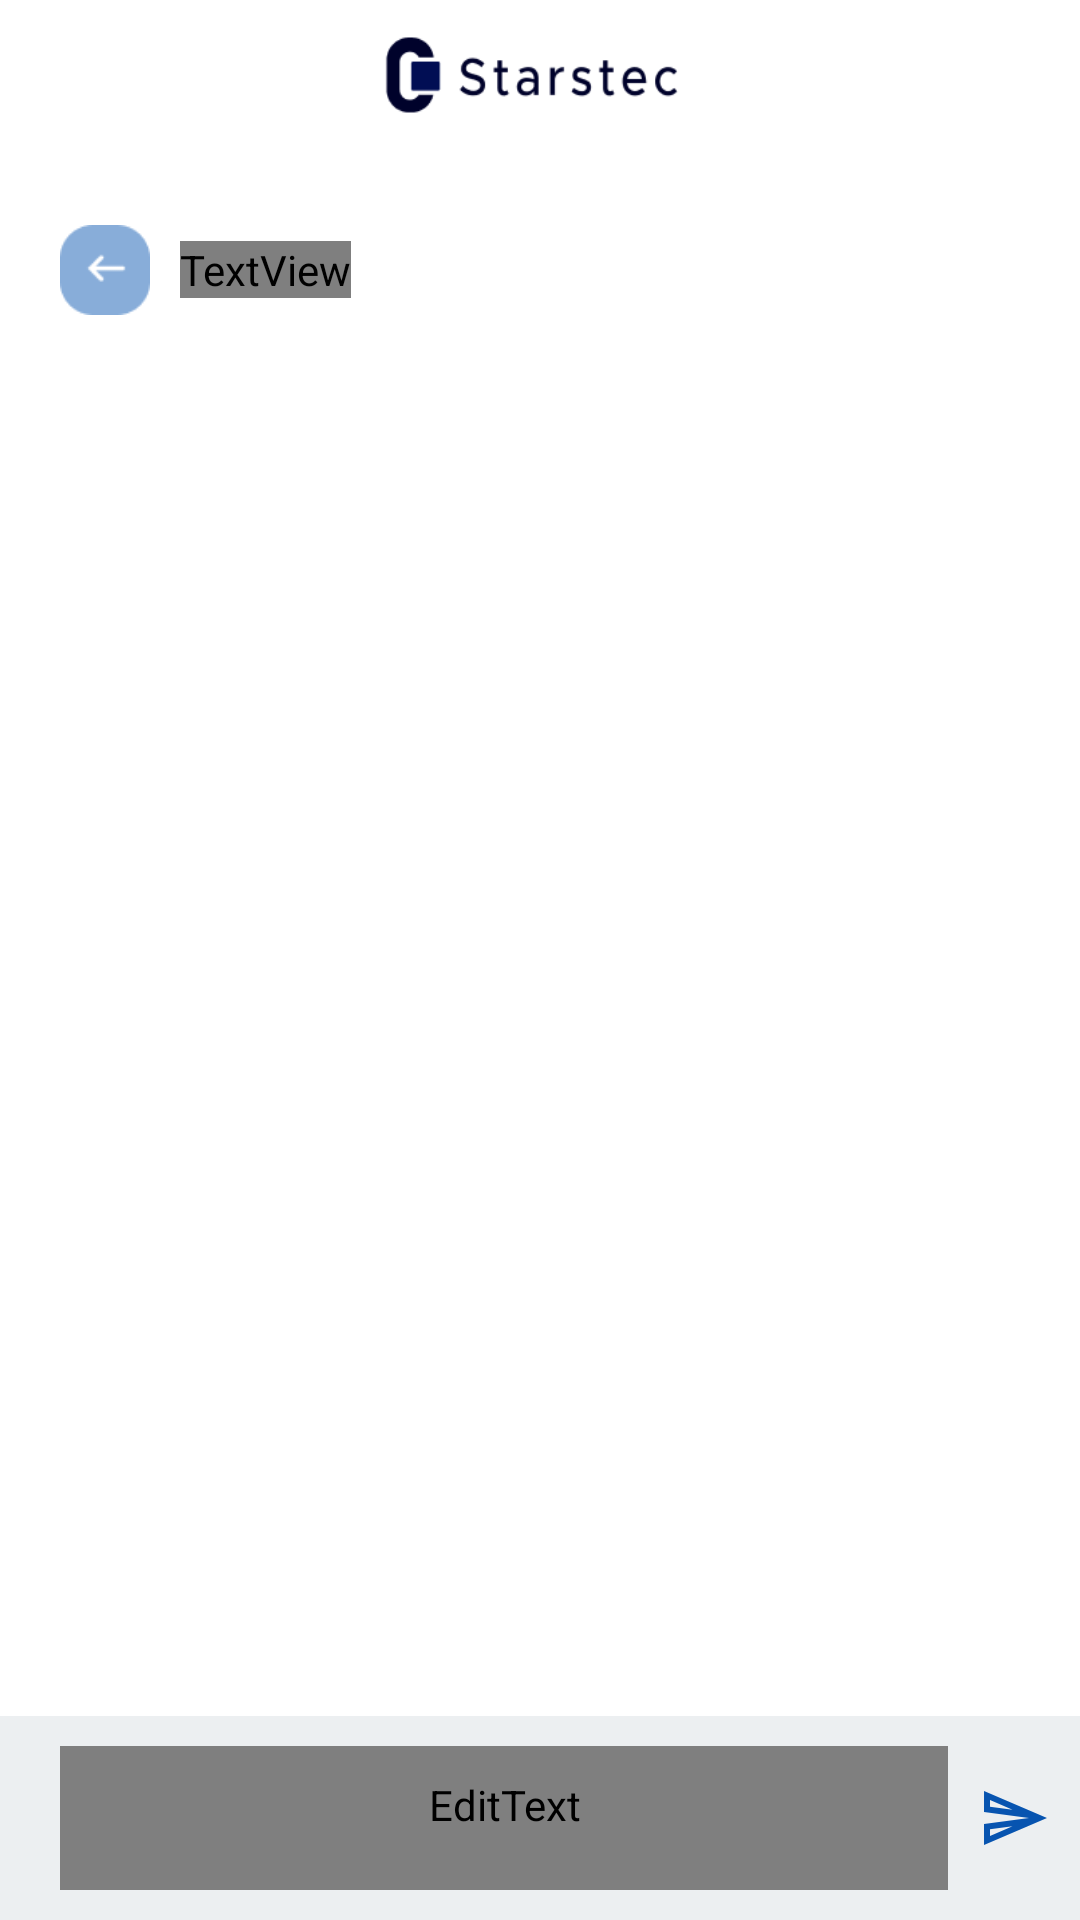

Point at icon controls on the screen. Image size 1080x1920, points as point (x, y).
backeda: point (105, 270)
send: point (1015, 1818)
